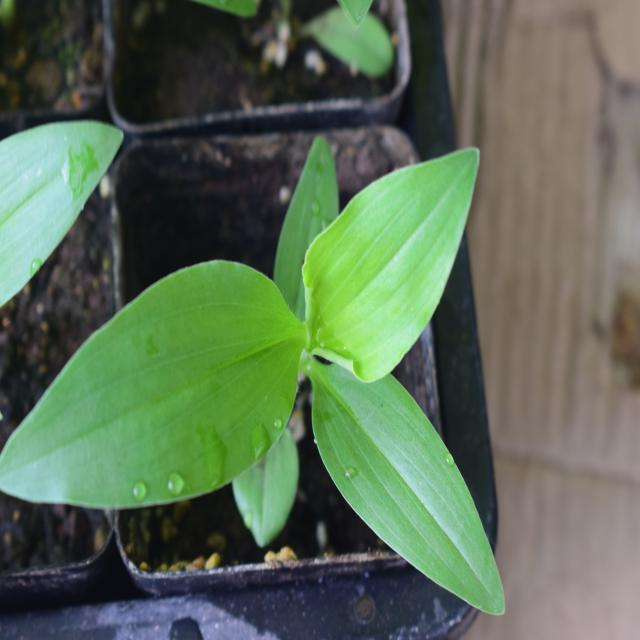Common Dayflower: (68, 140, 493, 628)
